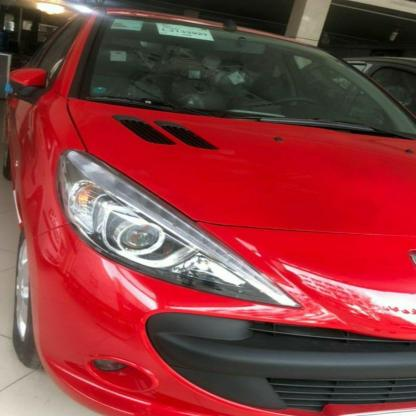Car: (0, 0, 416, 416), (339, 57, 416, 109)
